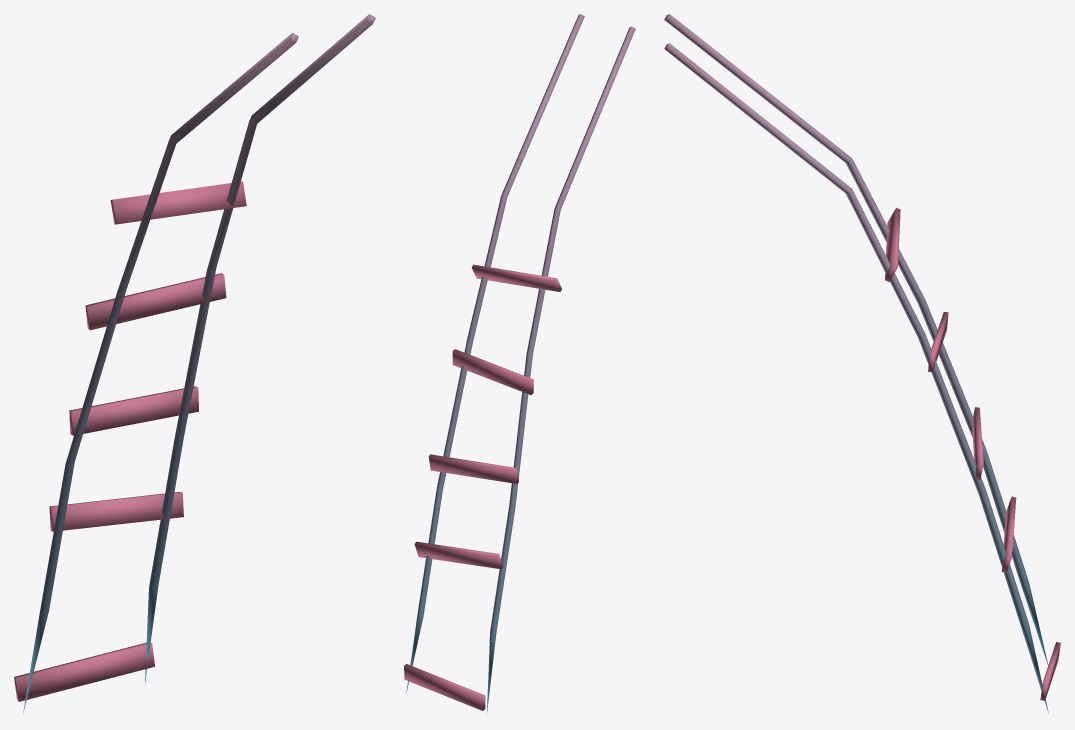
The model's file is bridge_wreck.glb.
3 views of the same model, side by side, from view 1: azimuth 30°, elevation 25°; view 2: azimuth 150°, elevation 25°; view 3: azimuth 270°, elevation 25° (orthographic). The views are drawn at different scales.
Visible parts, largest first — view 1: Planks, Ropes; view 2: Ropes, Planks; view 3: Ropes, Planks.
Part boxes in pixels (<box>): Planks: <box>14,181,246,701</box>; Ropes: <box>23,14,375,713</box>; Ropes: <box>406,14,635,715</box>; Planks: <box>404,264,561,710</box>; Ropes: <box>664,14,1048,713</box>; Planks: <box>885,207,1060,700</box>.
Bounding box in the file's own units: 1.06 × 6.05 × 3.27.
